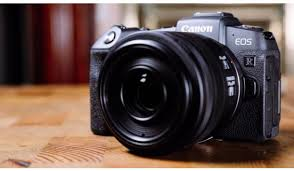camera: (91, 17, 281, 154)
